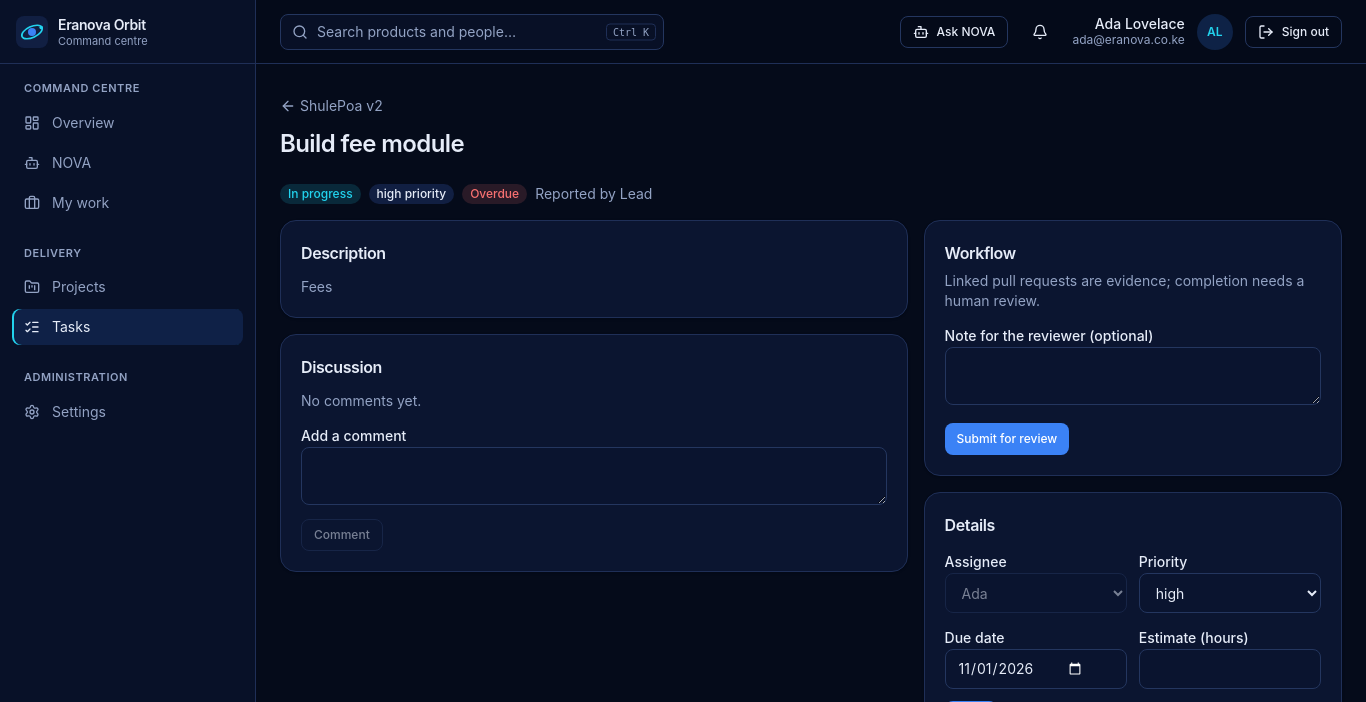
Test: tasks and my work › submits a task for review with a note
Check: the text "Overdue" is shown, box [462, 184, 527, 204]
In the text box labelled "Note for the reviewer (optional)": (1133, 376) [945, 347, 1321, 405], type "Ready"
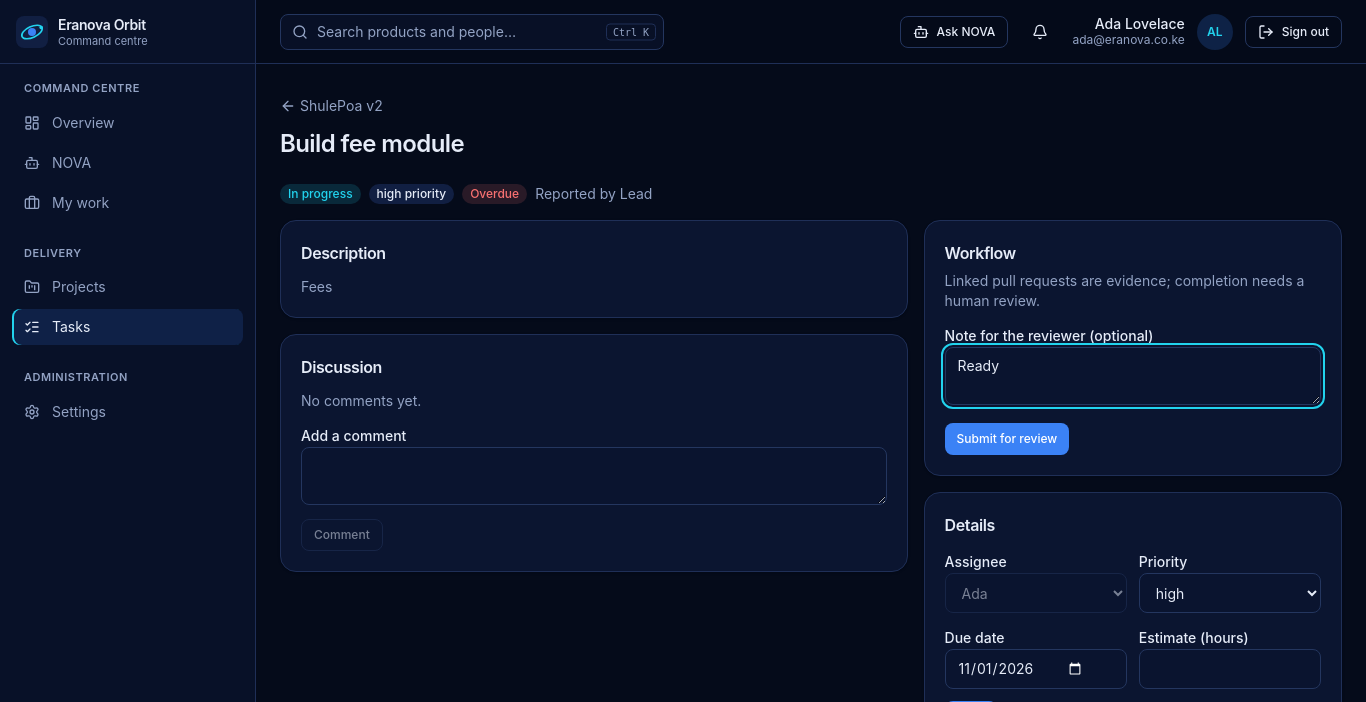
Click the button "Submit for review": (1007, 439) [945, 423, 1069, 455]
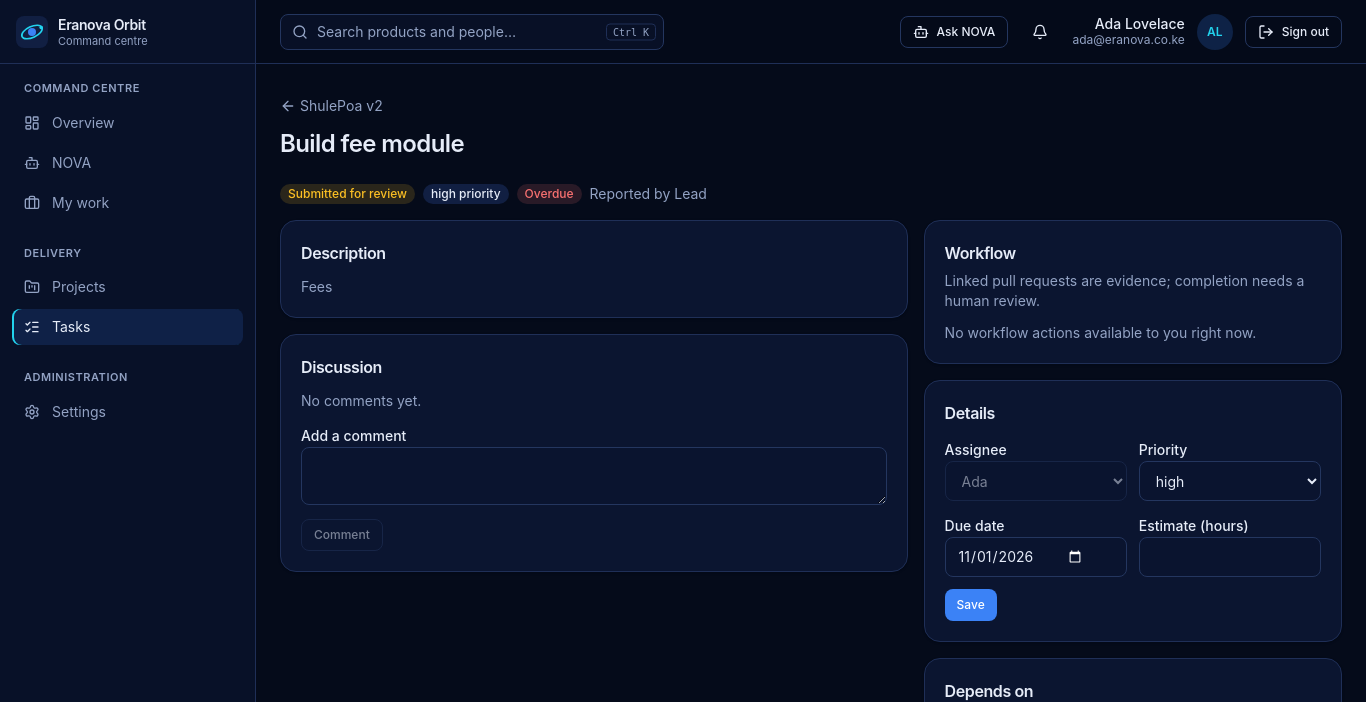
Check: the text "Submitted for review" is shown, box [280, 184, 415, 204]
